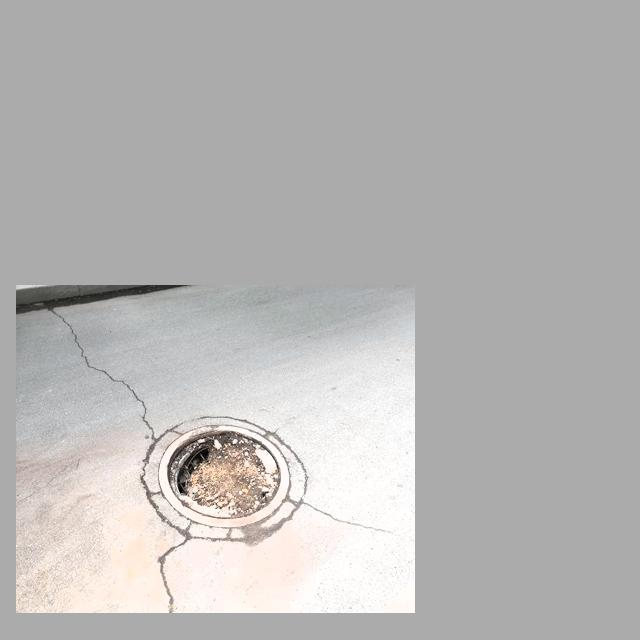broke: (133, 408, 303, 549)
